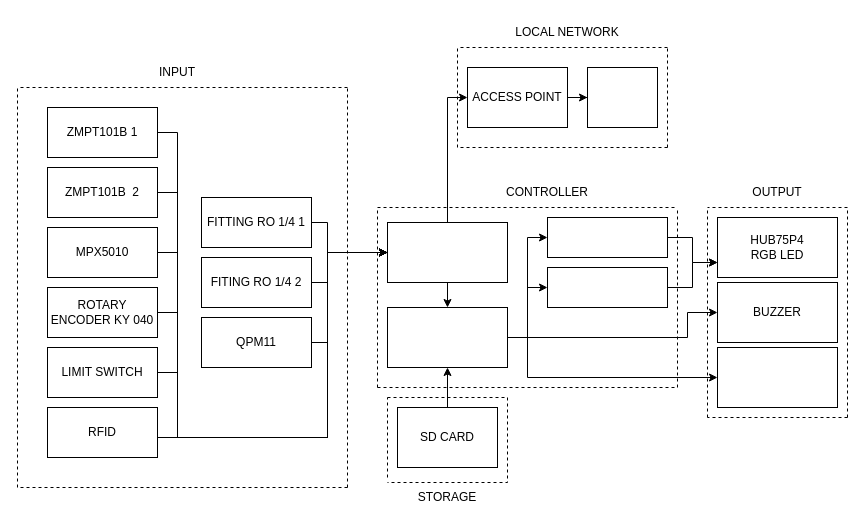
Image size: 866x529. Some labels were removed from this diagram. Here are the shapes that lost their labels. From the top down, the centre of each, then its label:
At (x=622, y=97): "WEB".
At (x=447, y=252): "ESP32 S3".
At (x=607, y=237): "LEVEL SHIFTER 1 745HCT245".
At (x=607, y=287): "LEVEL SHIFTER 2 745HCT245".
At (x=447, y=337): "ESP32 DEVKIT V1".
At (x=777, y=377): "ELECTRICAL HASP".
